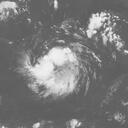cyclone: (28, 45, 82, 99)
